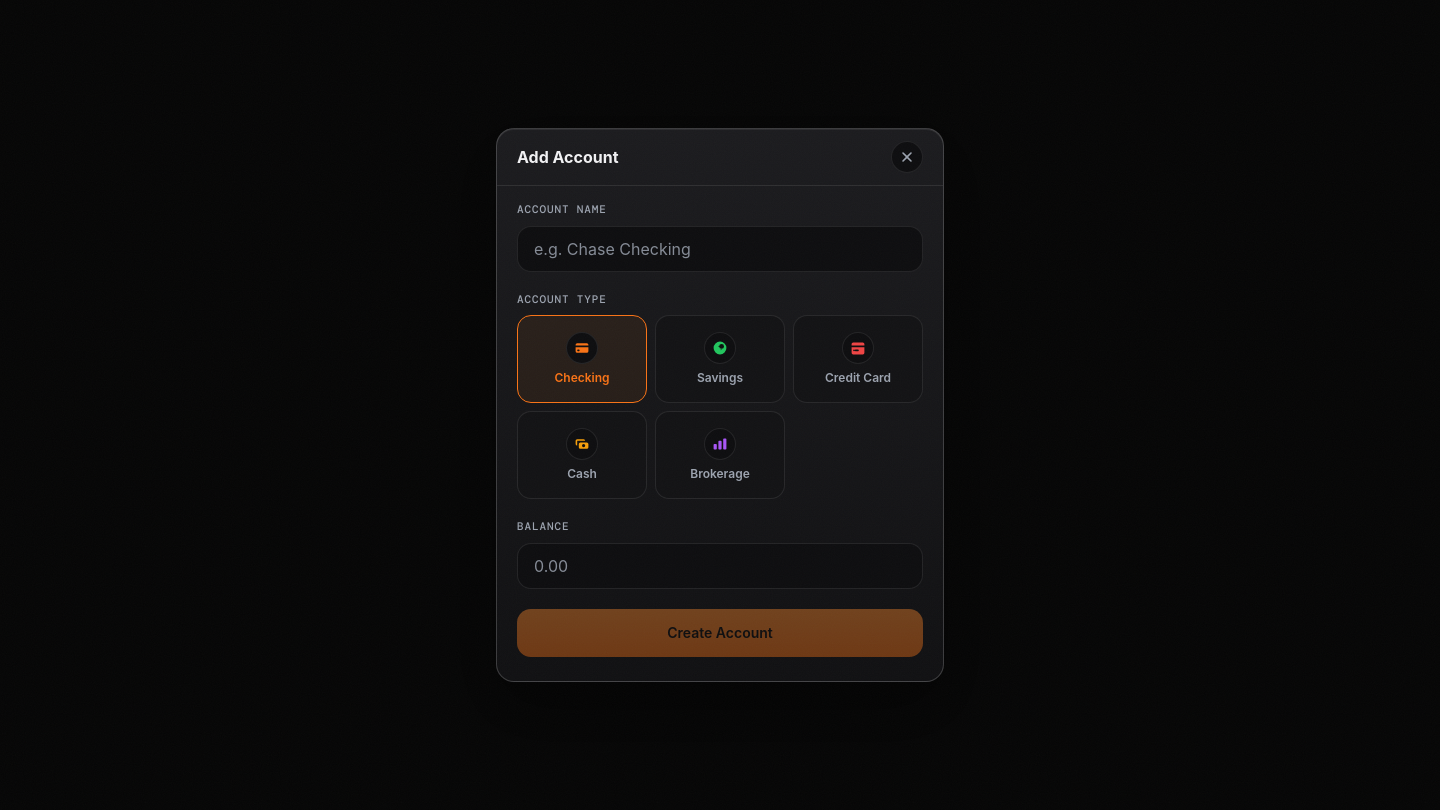
Test: AddAccountModal balance entry › asks for what is owed as a plain positive amount
The width and height of the screenshot is (1440, 810).
Step 1. Click the button with aria-label "credit card:" → point(858, 359), box [793,315,923,403]
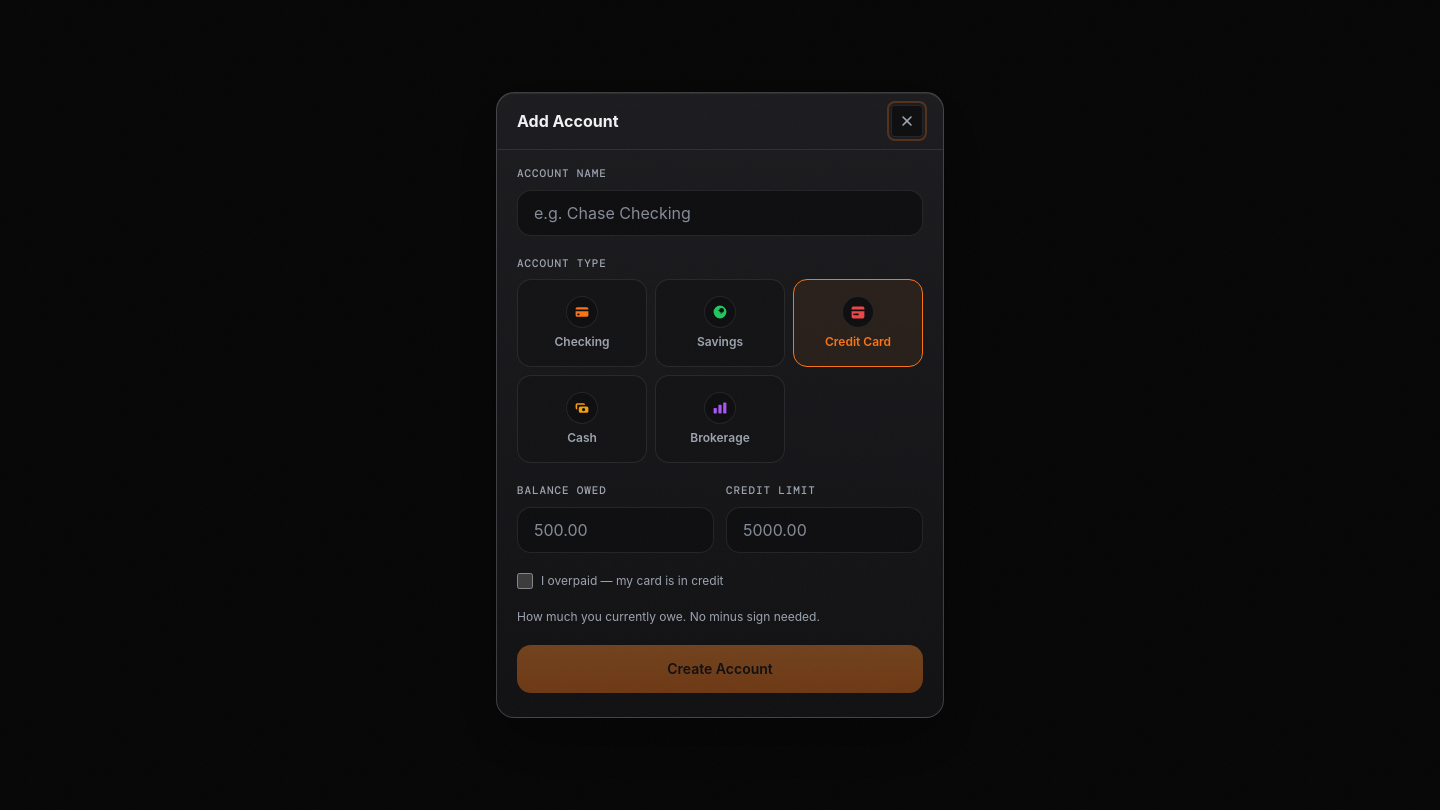
Expected: the text "Balance owed" is shown, [517,483,607,497]
Expected: the text "How much you currently owe. No minus sign needed." is shown, [517,609,820,624]
